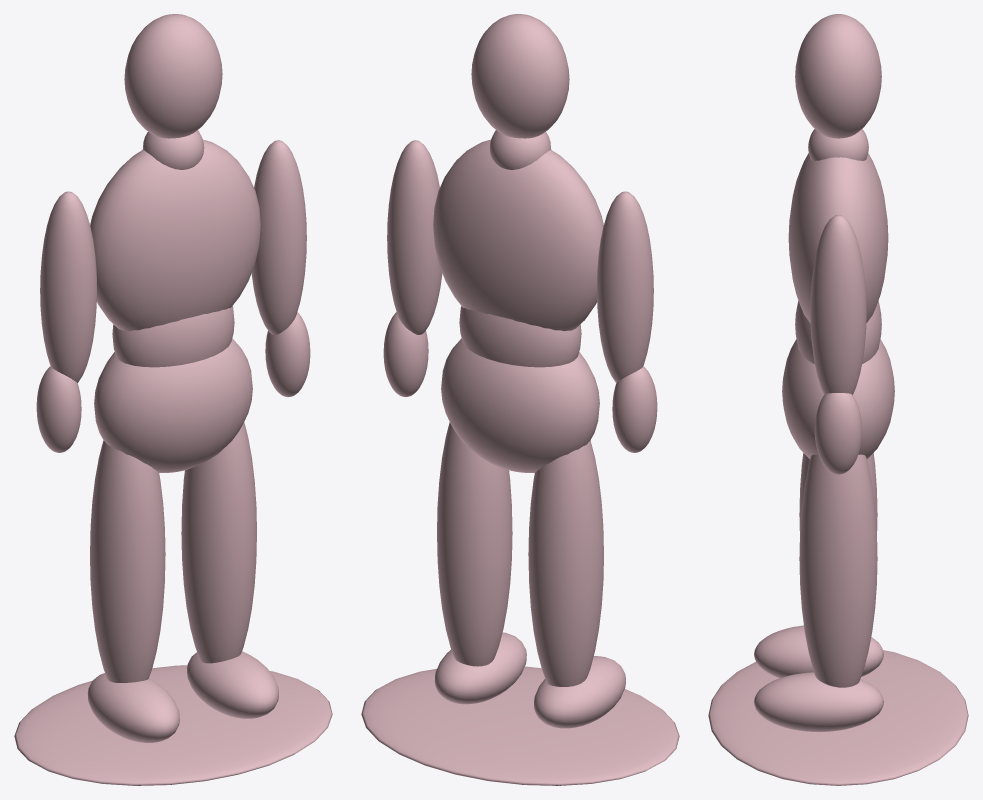
The model's file is flairify-form.glb.
The picture shows the model from 3 angles, left to right: view 1: azimuth 30°, elevation 25°; view 2: azimuth 150°, elevation 25°; view 3: azimuth 270°, elevation 25°; orthographic projection.
Size of the model in its own units: 0.76 by 1.8 by 0.6.
